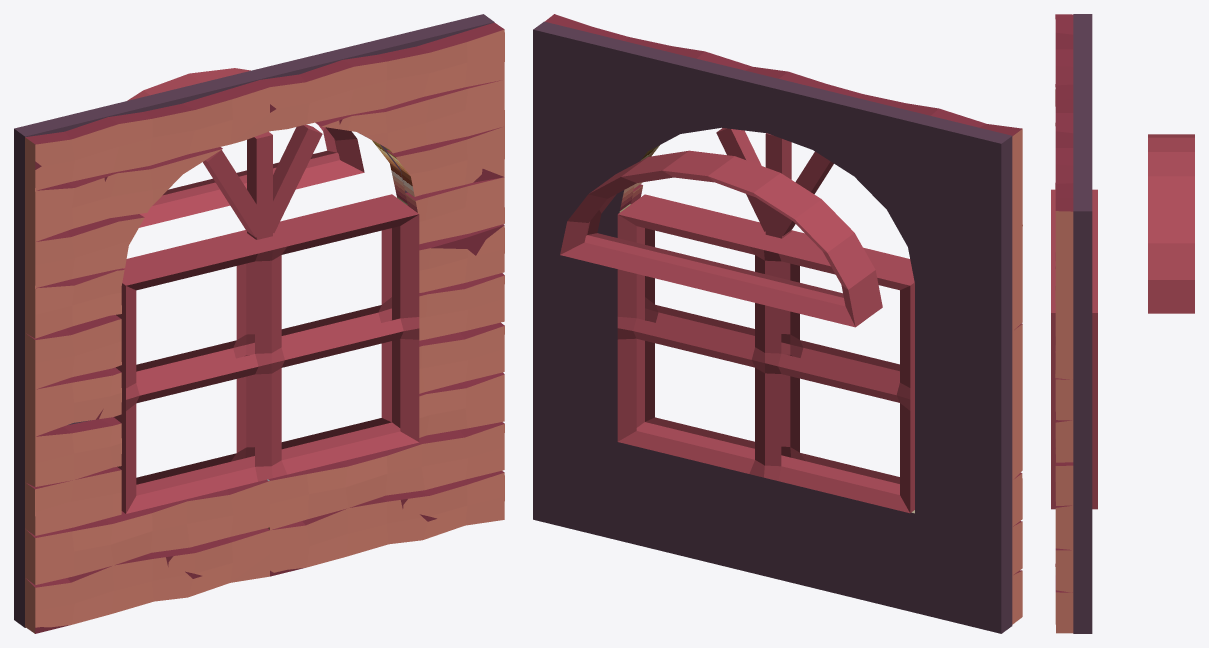
File: wall_wst_Window_2.glb
3 views of the same model, side by side, from view 1: azimuth 30°, elevation 25°; view 2: azimuth 150°, elevation 25°; view 3: azimuth 270°, elevation 25° (orthographic). The views are drawn at different scales.
Visible parts, largest first — view 1: Cube.010, Cube.012, Cube.011, Cube.013, Cube.015, Cube.014, Cube.016; view 2: Cube.011, Cube.012, Cube.013, Cube.010, Cube.014, Cube.015, Cube.016; view 3: Cube.011, Cube.010, Cube.013, Cube.012.
Part boxes in pixels (x1,y1,x2,y2): Cube.010: (25,22,504,633); Cube.012: (114,194,419,513); Cube.011: (14,14,494,627); Cube.013: (127,68,364,227); Cube.015: (264,124,322,232); Cube.014: (247,131,272,239); Cube.016: (203,150,268,237); Cube.011: (533,21,1012,633); Cube.012: (617,194,914,513); Cube.013: (560,150,882,327); Cube.010: (545,14,1022,624); Cube.014: (765,133,791,238); Cube.015: (716,128,765,231); Cube.016: (768,151,833,235); Cube.011: (1073,14,1092,633); Cube.010: (1055,14,1073,633); Cube.013: (1148,134,1194,313); Cube.012: (1051,189,1097,509).
Bounding box in the file's own units: 2 × 2 × 0.617.
1 material, 1 textured.
